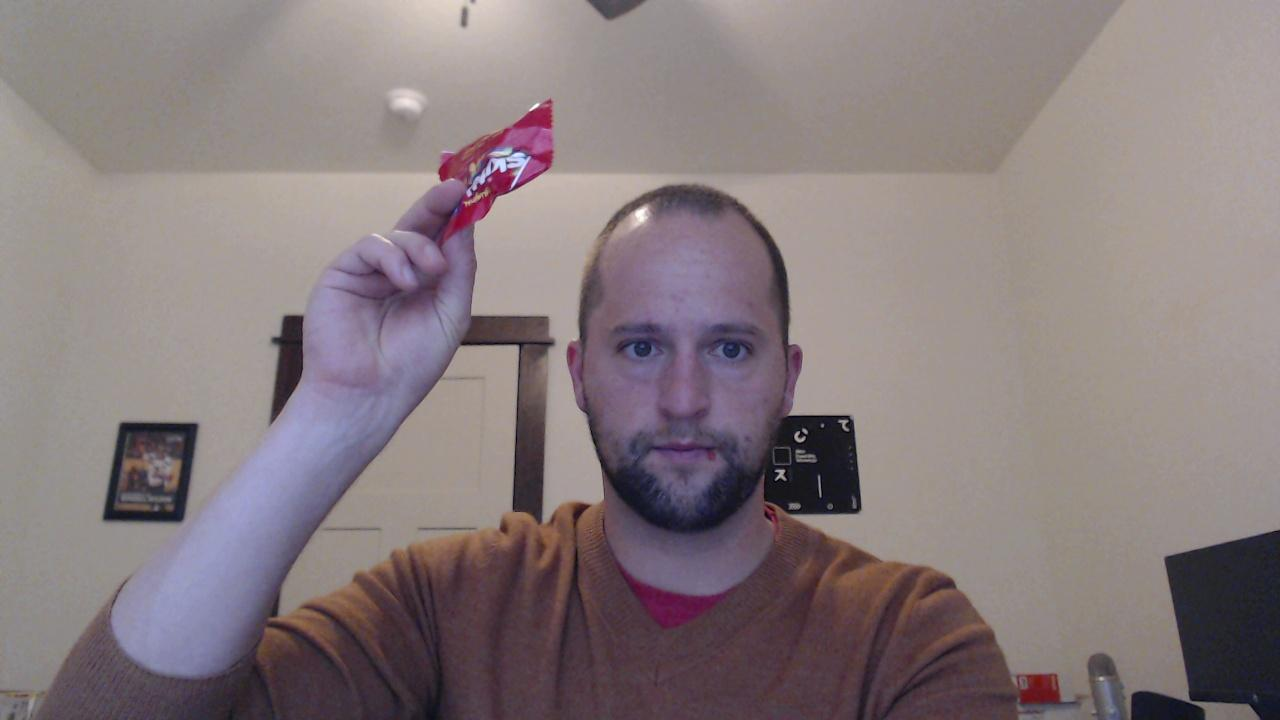skittles: (430, 95, 556, 251)
